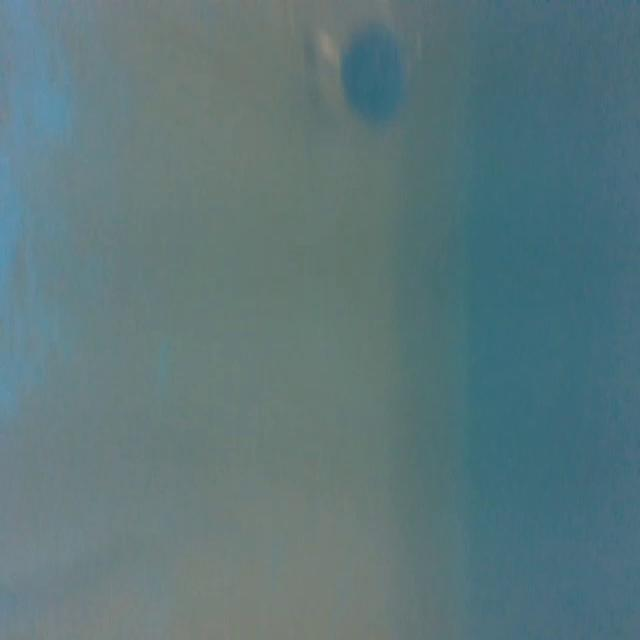plastic bottle: (294, 2, 440, 140)
